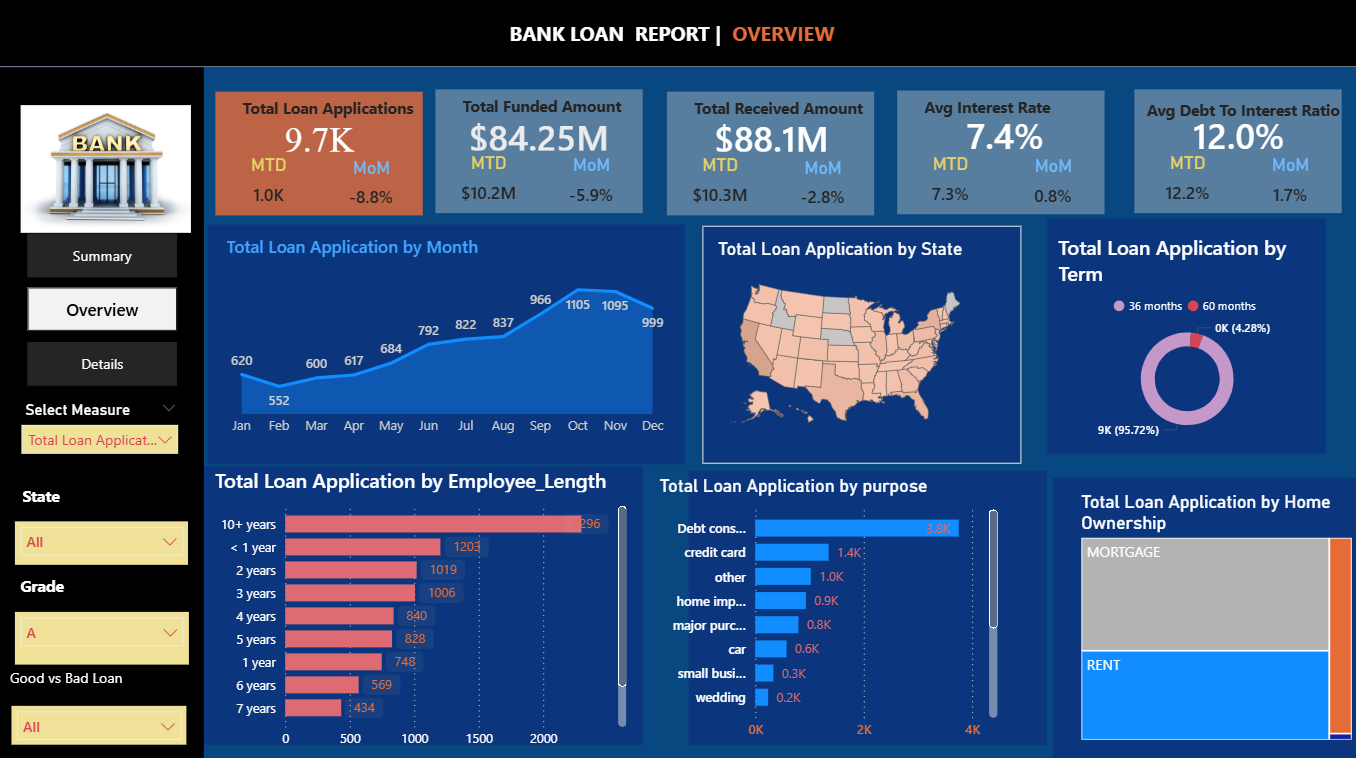

This screenshot's page, from the dashboard's own definition file:
{"tool":"powerbi","page":{"name":"Overview","canvas":[1280,720],"ordinal":1},"visuals":[{"type":"group","id":"g1","title":"Group 3","box":[0,0,1280.3,720.6],"z":0},{"type":"shape","box":[0,63.7,192.1,656.4],"z":0,"group":"g1"},{"type":"shape","box":[410.3,84.2,195.6,116.7],"z":0,"group":"g4"},{"type":"shape","box":[1069.4,84.2,195.6,116.7],"z":0,"group":"g8"},{"type":"shape","box":[845.4,85.3,195.6,116.7],"z":0,"group":"g7"},{"type":"shape","box":[628.3,86.5,195.6,116.7],"z":0,"group":"g5"},{"type":"shape","box":[203.1,86.7,195.6,116.7],"z":0,"group":"g3"},{"type":"shape","box":[192.3,439.7,413.8,262.5],"z":0,"group":"g14"},{"type":"slicer","fields":{"Values":["financial_loan.grade"]},"box":[14,576.7,164.2,49.7],"z":0,"group":"g2"},{"type":"slicer","fields":{"Values":["financial_loan.Good v Bad Loan"]},"box":[10.8,666,165.3,36.3],"z":0,"group":"g10"},{"type":"shape","box":[0,0,1280,62.6],"z":1000,"group":"g1"},{"type":"cardVisual","fields":{"Data":["financial_loan.Avg DTI"]},"box":[1070.5,111.2,195.6,31.3],"z":1000,"group":"g8"},{"type":"cardVisual","fields":{"Data":["financial_loan.Avg Interest Rate"]},"box":[849.2,111.6,195.2,31.6],"z":1000,"group":"g6"},{"type":"cardVisual","fields":{"Data":["financial_loan.Total Amount Received"]},"box":[629.4,113.5,195.6,31.3],"z":1000,"group":"g5"},{"type":"cardVisual","fields":{"Data":["financial_loan.Total Loan Application"]},"box":[204.2,113.7,195.6,31.3],"z":1000,"group":"g3"},{"type":"shape","box":[195.6,211.8,450.5,225.8],"z":1000,"group":"g12"},{"type":"barChart","fields":{"Y":["financial_loan.Total Loan Application"],"Category":["financial_loan.emp_length"]},"box":[197.6,439.7,397.9,274.4],"z":1000,"group":"g14"},{"type":"group","id":"g2","title":"Group 5","box":[14,537,164.2,89.7],"z":1000},{"type":"textbox","box":[14.1,537,161.4,36.3],"z":1000,"group":"g2"},{"type":"textbox","box":[430.8,84.2,175,35.7],"z":2000,"group":"g4"},{"type":"textbox","box":[865.9,85.3,175,35.7],"z":2000,"group":"g6"},{"type":"textbox","box":[648.8,86.5,175,35.7],"z":2000,"group":"g5"},{"type":"textbox","box":[223.6,86.7,175,35.7],"z":2000,"group":"g3"},{"type":"textbox","box":[1065,88.7,213.9,31.6],"z":2000,"group":"g8"},{"type":"textbox","box":[822.5,238.8,147.5,31.2],"z":2000},{"type":"cardVisual","fields":{"Data":["financial_loan.Total Funded Amount"]},"box":[410.3,112.2,195.2,31.6],"z":3000},{"type":"cardVisual","title":"MTD","fields":{"Data":["financial_loan.MTD Funded Amount"]},"box":[411.4,143.6,98.3,57.3],"z":3000,"group":"g4"},{"type":"cardVisual","title":"MTD","fields":{"Data":["financial_loan.MTD Avg DTI"]},"box":[1070.5,143.6,98.3,57.3],"z":3000,"group":"g8"},{"type":"cardVisual","title":"MTD","fields":{"Data":["financial_loan.MTD Avg Interest Rate"]},"box":[846.5,144.7,98.3,57.3],"z":3000,"group":"g6"},{"type":"cardVisual","title":"MTD","fields":{"Data":["financial_loan.MTD Total Amount Received"]},"box":[629.4,145.9,98.3,57.3],"z":3000,"group":"g5"},{"type":"cardVisual","title":"MTD","fields":{"Data":["financial_loan.MTD loan Applications"]},"box":[204.2,146.1,98.3,57.3],"z":3000,"group":"g3"},{"type":"textbox","box":[4.3,624.5,151.4,29.1],"z":3000,"group":"g10"},{"type":"textbox","box":[475.3,13.2,341.4,42.8],"z":4000},{"type":"cardVisual","title":"MoM","fields":{"Data":["financial_loan.MoM Loan Application"]},"box":[508.5,145.3,97.8,56.7],"z":4000,"group":"g4"},{"type":"cardVisual","title":"MoM","fields":{"Data":["financial_loan.MoM Avg DTI"]},"box":[1167.6,145.3,97.8,56.7],"z":4000,"group":"g8"},{"type":"cardVisual","title":"MoM","fields":{"Data":["financial_loan.MoM Avg Int Rate"]},"box":[943.6,146.4,97.8,56.7],"z":4000,"group":"g6"},{"type":"cardVisual","title":"MoM","fields":{"Data":["financial_loan.MoM Total Amount Received"]},"box":[726.5,147.6,97.8,56.7],"z":4000,"group":"g5"},{"type":"cardVisual","title":"MoM","fields":{"Data":["financial_loan.MoM Loan Application"]},"box":[301.3,147.8,97.8,56.7],"z":4000,"group":"g3"},{"type":"group","id":"g3","title":"Group 1","box":[203.1,86.7,196.5,117.5],"z":5000},{"type":"group","id":"g4","title":"Group 1","box":[410.3,84.2,196,117.7],"z":6000},{"type":"group","id":"g5","title":"Group 1","box":[628.3,86.5,196.4,118.1],"z":7000},{"type":"group","id":"g6","title":"Group 2","box":[846.5,85.3,197.9,117.7],"z":7001,"group":"g7"},{"type":"group","id":"g7","title":"Group 1","box":[845.4,85.3,198.7,118.1],"z":8000},{"type":"group","id":"g8","title":"Group 1","box":[1065,84.2,213.9,117.7],"z":9000},{"type":"shape","box":[649.3,444,338.2,258.2],"z":10000},{"type":"group","id":"g9","title":"Group 4","box":[14,452.7,164.2,78.9],"z":11000},{"type":"shape","box":[987.5,206.4,262.5,221.5],"z":11500,"group":"g13"},{"type":"shape","box":[662.3,212.8,300.4,224.7],"z":11500,"group":"g11"},{"type":"slicer","fields":{"Values":["Select Measure.Select Measure"]},"box":[10.8,372.7,167.5,75.6],"z":12000},{"type":"areaChart","fields":{"Y":["financial_loan.Total Loan Application"],"Category":["Date Table.Month"]},"box":[208.6,221.2,425.7,197.6],"z":13000,"group":"g12"},{"type":"group","id":"g10","title":"Group 6","box":[4.3,624.5,171.8,77.8],"z":13000},{"type":"group","id":"g11","title":"Group 7","box":[662.3,212.8,300.4,224.7],"z":14000},{"type":"group","id":"g12","title":"Group 8","box":[195.6,211.8,450.5,225.8],"z":15000},{"type":"group","id":"g13","title":"Group 9","box":[987.5,206.4,262.5,221.5],"z":16000},{"type":"shapeMap","fields":{"Value":["financial_loan.Total Loan Application"],"Category":["financial_loan.address_state"]},"box":[671.8,225,249.9,197.6],"z":16000,"group":"g11"},{"type":"donutChart","fields":{"Y":["financial_loan.Total Loan Application"],"Category":["financial_loan.term"]},"box":[992.5,220.2,252.5,198.4],"z":16003,"group":"g13"},{"type":"group","id":"g14","title":"Group 10","box":[192.3,439.7,413.8,274.4],"z":17000},{"type":"barChart","fields":{"Category":["financial_loan.purpose"],"Y":["financial_loan.Total Loan Application"]},"box":[616.9,448.4,328.4,257.1],"z":18000},{"type":"shape","box":[992.9,450.5,287.4,265.8],"z":19000},{"type":"treemap","fields":{"Values":["financial_loan.Total Loan Application"],"Group":["financial_loan.home_ownership"]},"box":[1014.5,463.5,264.7,238.8],"z":20000},{"type":"slicer","fields":{"Values":["financial_loan.address_state"]},"box":[14,491.3,163.6,40.6],"z":20000,"group":"g9"},{"type":"pageNavigator","box":[25.9,220.4,141.5,143.7],"z":21000},{"type":"textbox","box":[16,452.7,158.1,32.9],"z":21000,"group":"g9"},{"type":"image","box":[19.4,84.3,161,150.2],"z":22000}]}

Visuals, with their boxes in screenshot pixels (x1, y1, x2, y2), scaled from the page's 1280x720 canvas onto the 1356x758 screenshot:
"Group 3" group: bbox=[0, 0, 1355, 757]
shape: bbox=[0, 67, 204, 757]
shape: bbox=[435, 89, 642, 212]
shape: bbox=[1133, 89, 1340, 212]
shape: bbox=[896, 90, 1103, 213]
shape: bbox=[666, 91, 873, 214]
shape: bbox=[215, 91, 422, 214]
shape: bbox=[204, 463, 642, 739]
slicer - financial_loan.grade: bbox=[15, 607, 189, 659]
slicer - financial_loan.Good v Bad Loan: bbox=[11, 701, 187, 739]
shape: bbox=[0, 0, 1355, 66]
cardVisual - financial_loan.Avg DTI: bbox=[1134, 117, 1341, 150]
cardVisual - financial_loan.Avg Interest Rate: bbox=[900, 117, 1106, 151]
cardVisual - financial_loan.Total Amount Received: bbox=[667, 119, 874, 152]
cardVisual - financial_loan.Total Loan Application: bbox=[216, 120, 424, 153]
shape: bbox=[207, 223, 684, 461]
barChart - financial_loan.Total Loan Application x financial_loan.emp_length: bbox=[209, 463, 631, 752]
"Group 5" group: bbox=[15, 565, 189, 660]
textbox: bbox=[15, 565, 186, 604]
textbox: bbox=[456, 89, 642, 126]
textbox: bbox=[917, 90, 1103, 127]
textbox: bbox=[687, 91, 873, 129]
textbox: bbox=[237, 91, 422, 129]
textbox: bbox=[1128, 93, 1355, 127]
textbox: bbox=[871, 251, 1028, 284]
cardVisual - financial_loan.Total Funded Amount: bbox=[435, 118, 641, 151]
"MTD" cardVisual: bbox=[436, 151, 540, 212]
"MTD" cardVisual: bbox=[1134, 151, 1238, 212]
"MTD" cardVisual: bbox=[897, 152, 1001, 213]
"MTD" cardVisual: bbox=[667, 154, 771, 214]
"MTD" cardVisual: bbox=[216, 154, 320, 214]
textbox: bbox=[5, 657, 165, 688]
textbox: bbox=[504, 14, 865, 59]
"MoM" cardVisual: bbox=[539, 153, 642, 213]
"MoM" cardVisual: bbox=[1237, 153, 1341, 213]
"MoM" cardVisual: bbox=[1000, 154, 1103, 214]
"MoM" cardVisual: bbox=[770, 155, 873, 215]
"MoM" cardVisual: bbox=[319, 156, 423, 215]
"Group 1" group: bbox=[215, 91, 423, 215]
"Group 1" group: bbox=[435, 89, 642, 213]
"Group 1" group: bbox=[666, 91, 874, 215]
"Group 2" group: bbox=[897, 90, 1106, 214]
"Group 1" group: bbox=[896, 90, 1106, 214]
"Group 1" group: bbox=[1128, 89, 1355, 213]
shape: bbox=[688, 467, 1046, 739]
"Group 4" group: bbox=[15, 477, 189, 560]
shape: bbox=[1046, 217, 1324, 450]
shape: bbox=[702, 224, 1020, 461]
slicer - Select Measure.Select Measure: bbox=[11, 392, 189, 472]
areaChart - financial_loan.Total Loan Application x Date Table.Month: bbox=[221, 233, 672, 441]
"Group 6" group: bbox=[5, 657, 187, 739]
"Group 7" group: bbox=[702, 224, 1020, 461]
"Group 8" group: bbox=[207, 223, 684, 461]
"Group 9" group: bbox=[1046, 217, 1324, 450]
shapeMap - financial_loan.Total Loan Application x financial_loan.address_state: bbox=[712, 237, 976, 445]
donutChart - financial_loan.Total Loan Application x financial_loan.term: bbox=[1051, 232, 1319, 441]
"Group 10" group: bbox=[204, 463, 642, 752]
barChart - financial_loan.purpose x financial_loan.Total Loan Application: bbox=[654, 472, 1001, 743]
shape: bbox=[1052, 474, 1355, 754]
treemap - financial_loan.Total Loan Application x financial_loan.home_ownership: bbox=[1075, 488, 1355, 739]
slicer - financial_loan.address_state: bbox=[15, 517, 188, 560]
pageNavigator: bbox=[27, 232, 177, 383]
textbox: bbox=[17, 477, 184, 511]
image: bbox=[21, 89, 191, 247]
